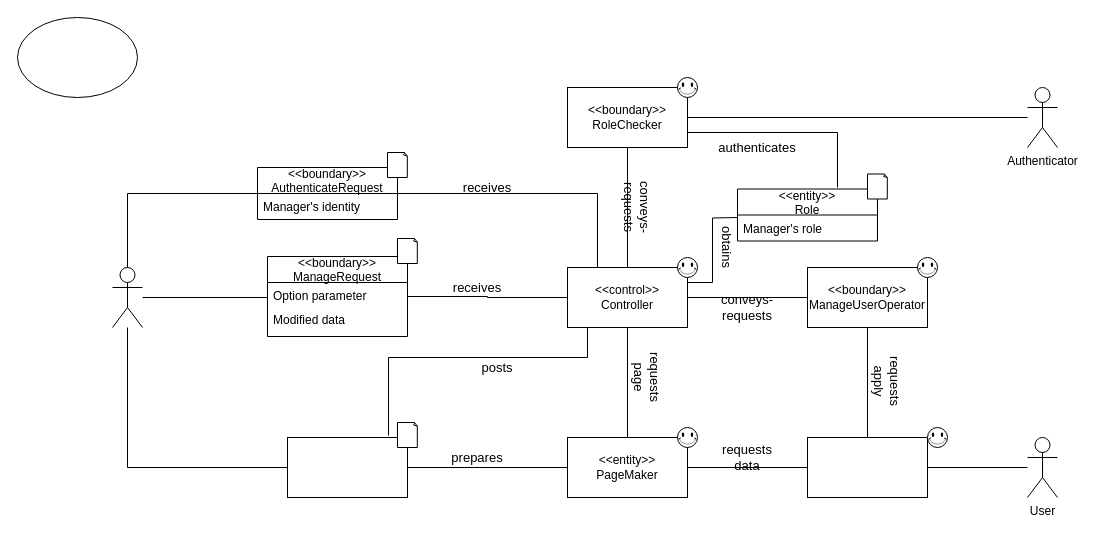
Image size: 1095x536. Some labels were removed from this diagram. Each missing label, with the centre of its shape:
<<boundary>> InterfacePage: the point at 347,467
<<boundary>> UserConnection: the point at 867,467
BUC-5 ManageUsers: the point at 77,57
Manager: the point at 127,297
